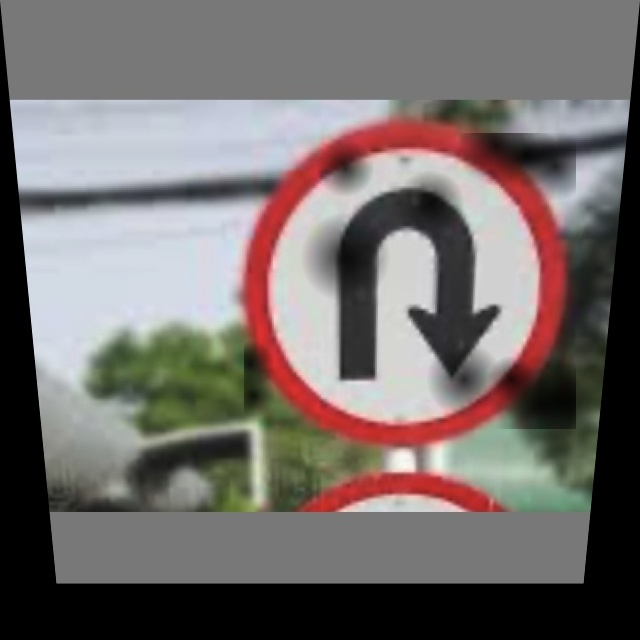U_Turn_Ahead: (244, 133, 576, 429)
